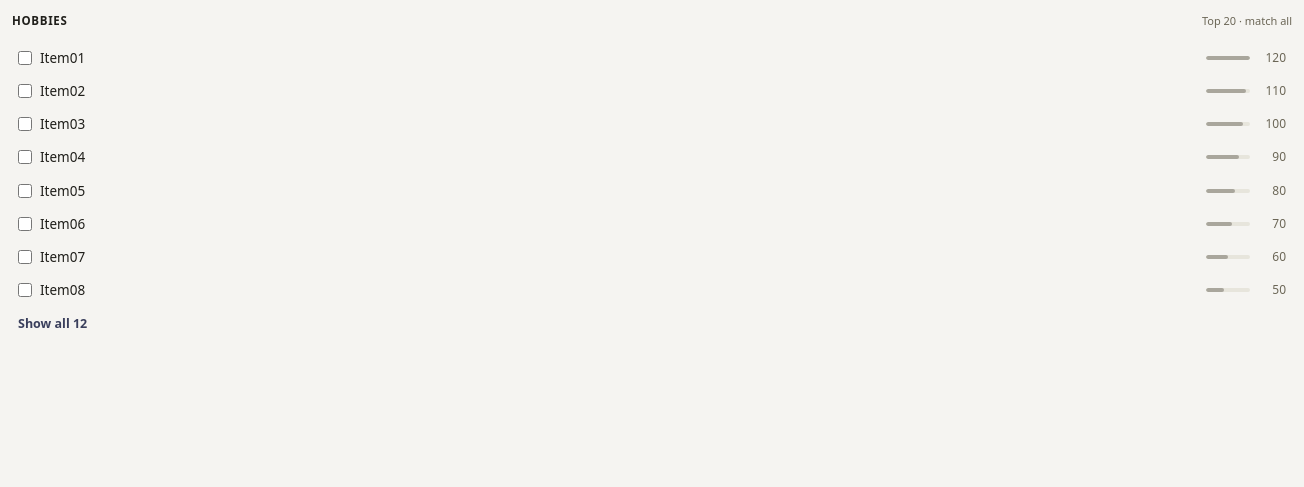
FacetSection › collapses to the first 8 rows, and 'Show all' reveals the rest and 'Show less' hides them again
Click the button "Show all 12" at (53, 324), box [12,314,93,333]
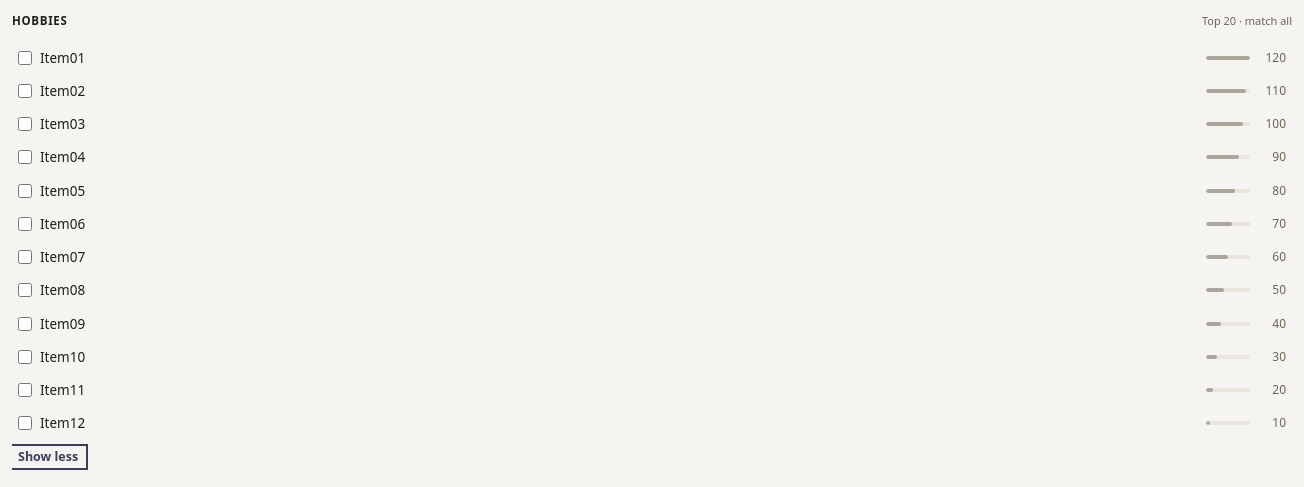
Expected: the number of checkboxes is 12
Click the button "Show less" at (48, 457), box [12,448,84,466]
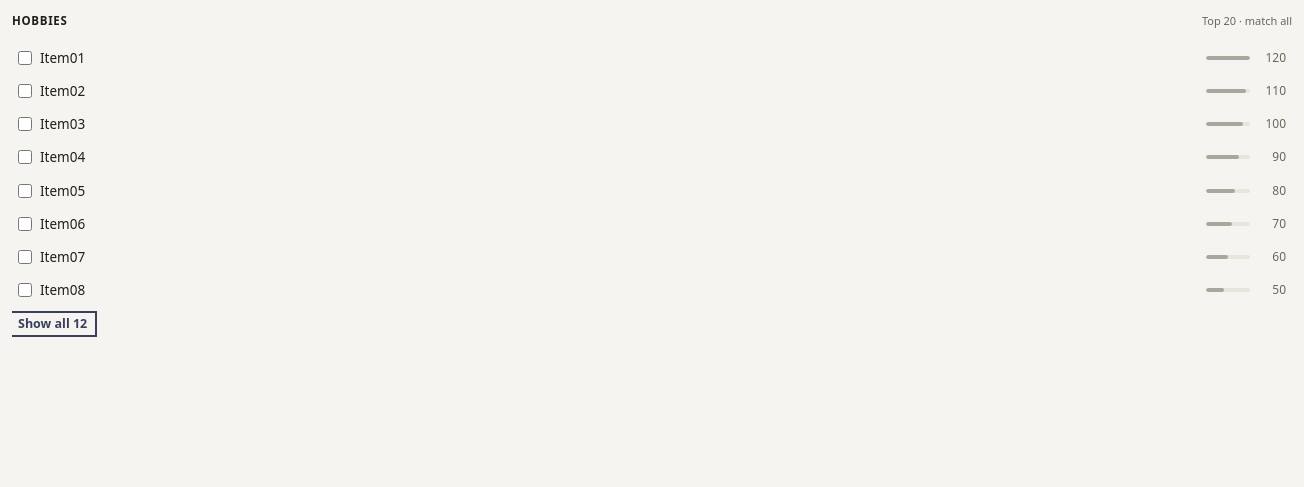
Expected: the number of checkboxes is 8
